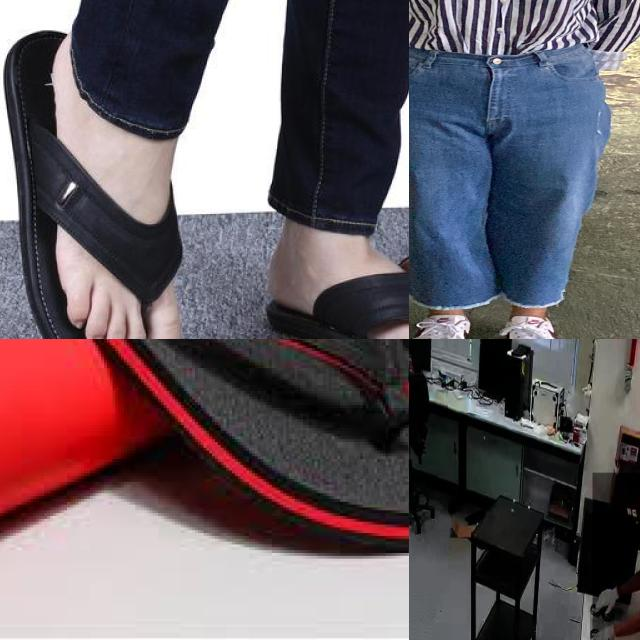Sandals: (0, 339, 409, 564), (3, 28, 186, 339), (264, 200, 409, 339)
hand_glove: (593, 570, 622, 621), (590, 613, 615, 640)
head_nohelmet: (409, 0, 640, 339)
person: (592, 472, 640, 640)
shoes: (496, 312, 586, 339), (409, 309, 485, 339)
